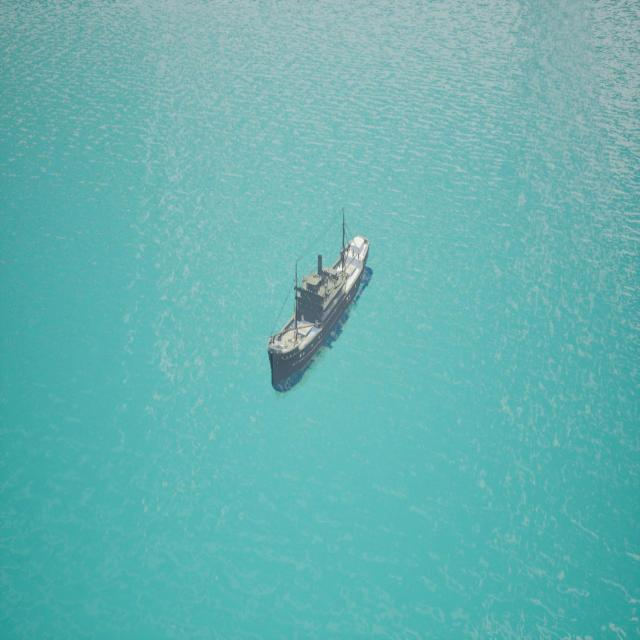fishing ship: (267, 236, 372, 395)
